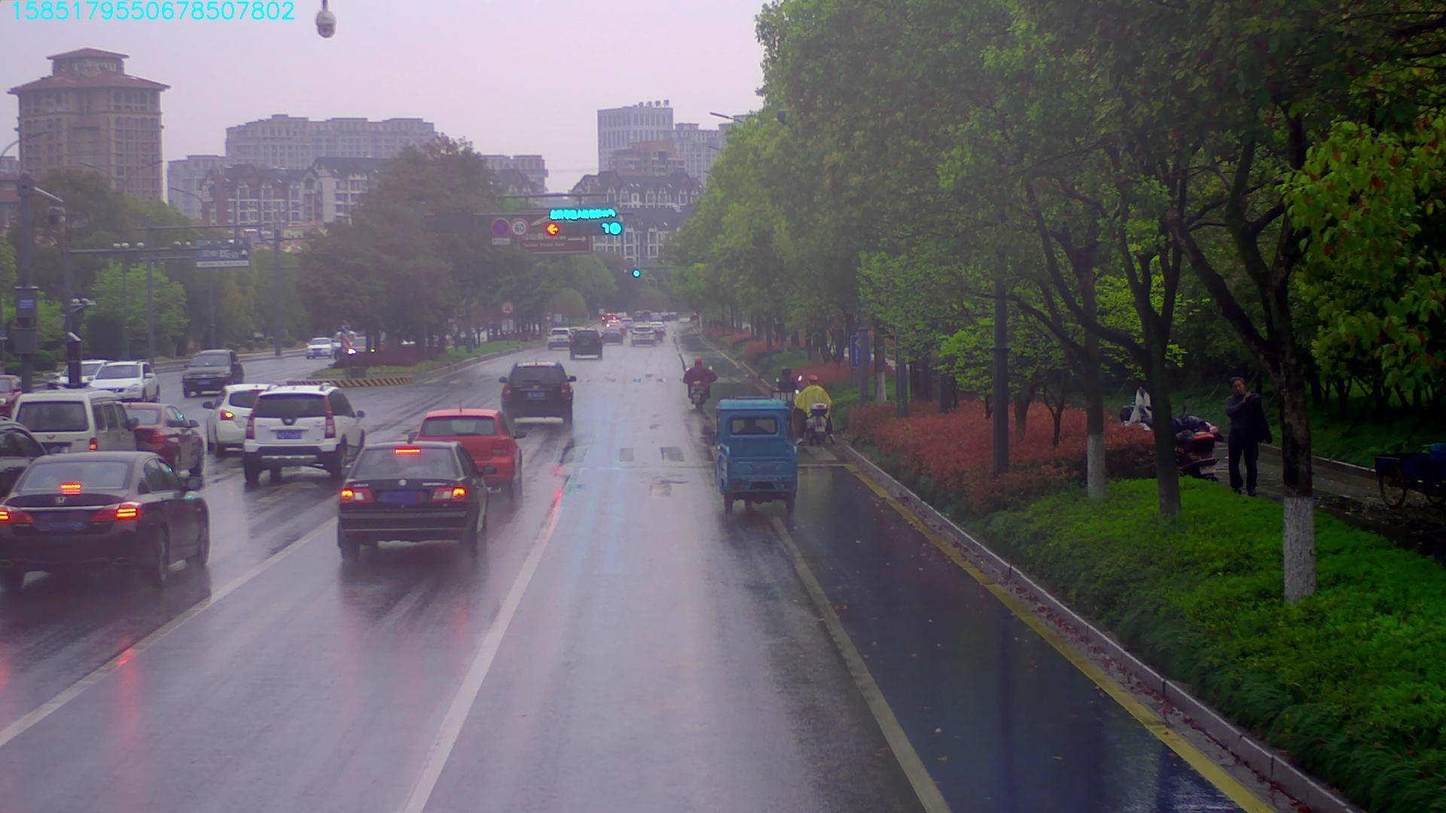green: (592, 224, 620, 233)
red: (547, 224, 578, 237)
wait_on: (549, 206, 623, 224)
